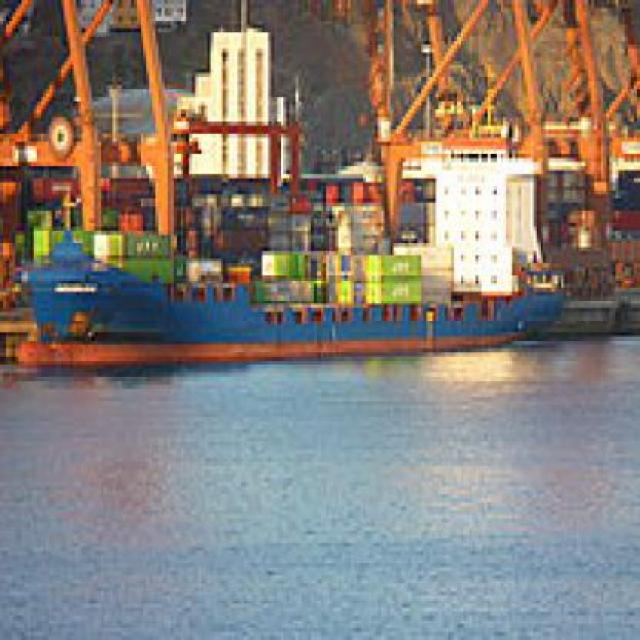container: (25, 196, 552, 377)
